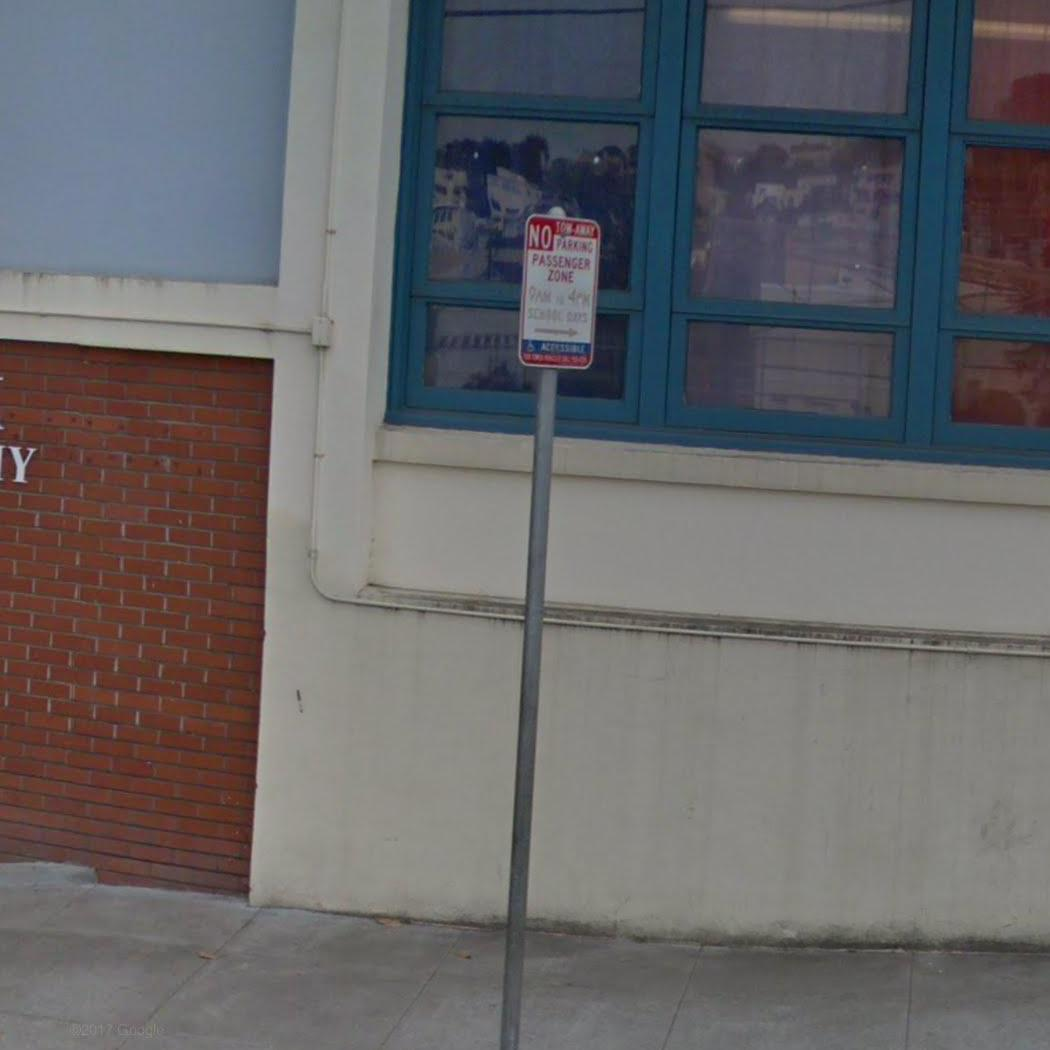No Parking: (515, 211, 604, 374)
